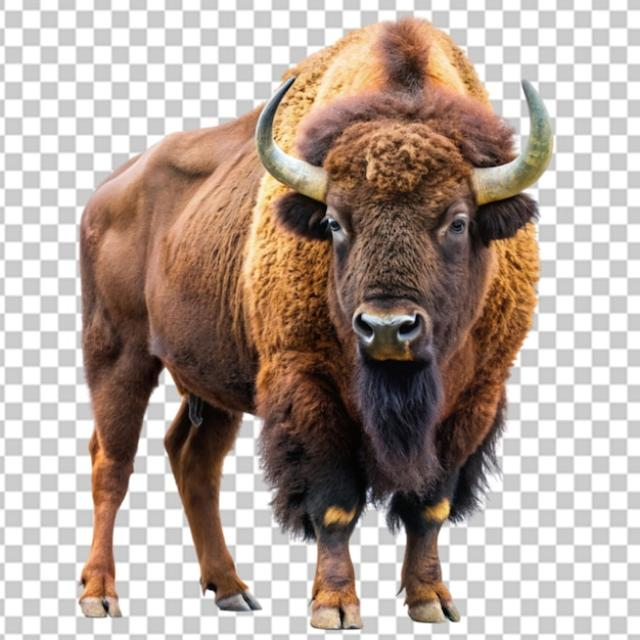Ox: (66, 17, 558, 640)
